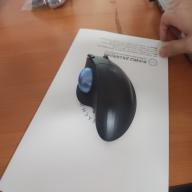mouse: (75, 52, 139, 144)
